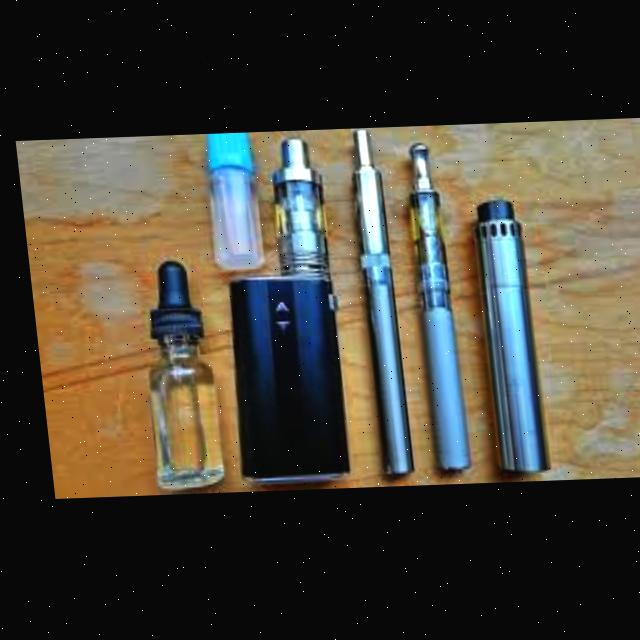vape: (203, 139, 344, 485), (342, 131, 405, 481), (395, 144, 459, 477), (470, 204, 538, 474)
